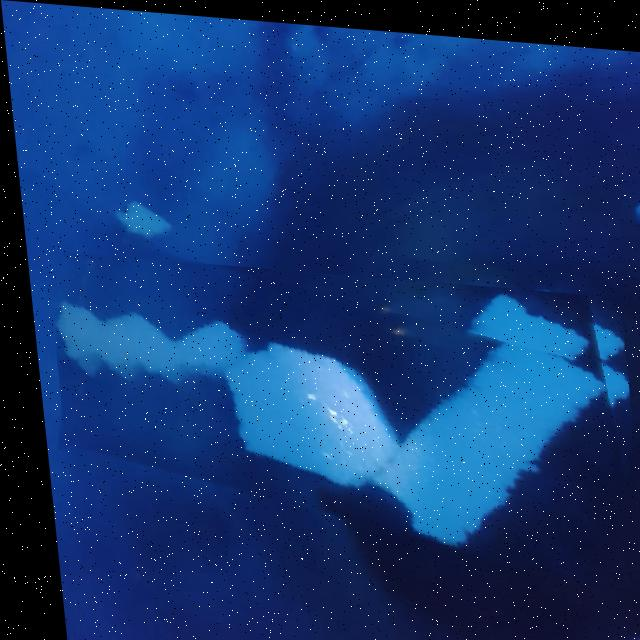litter: (39, 250, 632, 559), (383, 251, 633, 534), (240, 342, 405, 495), (49, 323, 256, 443), (577, 617, 640, 640)
